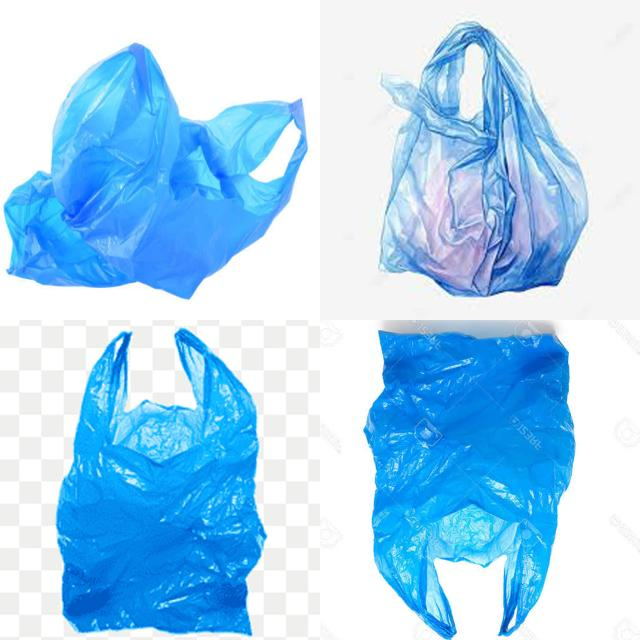Single-layer Plastic: (5, 44, 308, 299), (365, 331, 575, 639), (56, 329, 265, 635), (380, 22, 589, 296)
